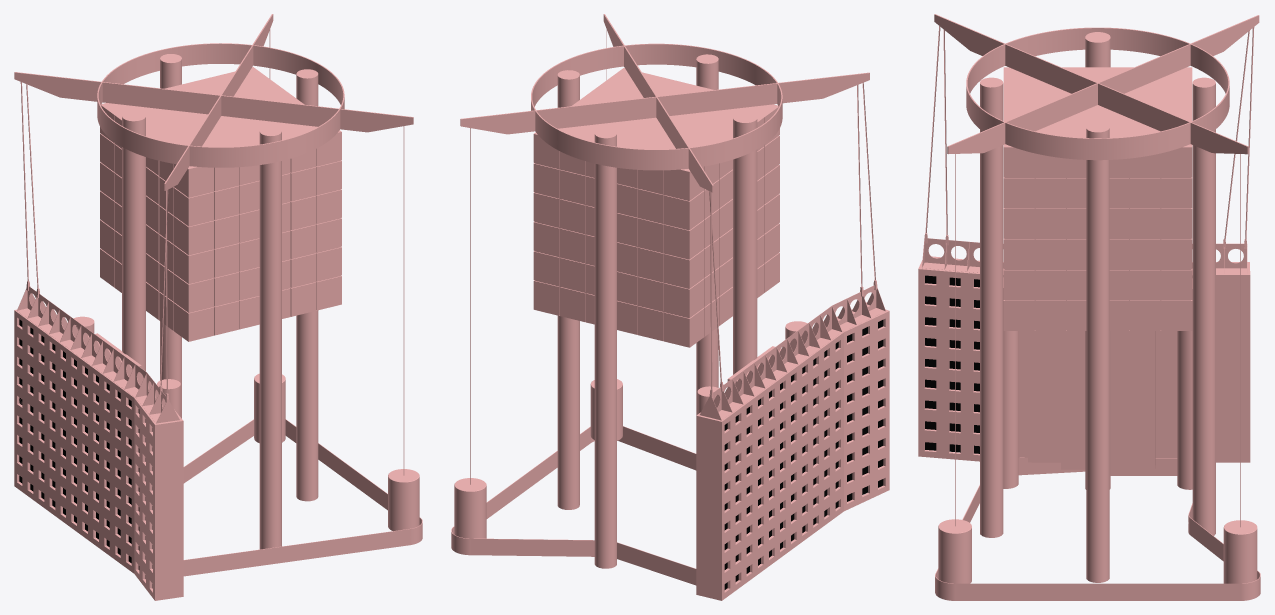
The model's file is 01-weightofculture.glb.
The picture shows the model from 3 angles, left to right: view 1: azimuth 30°, elevation 25°; view 2: azimuth 150°, elevation 25°; view 3: azimuth 270°, elevation 25°; orthographic projection. The views are drawn at different scales.
Size of what is drawn, in the model's own units: 51155 by 74027 by 50925.
